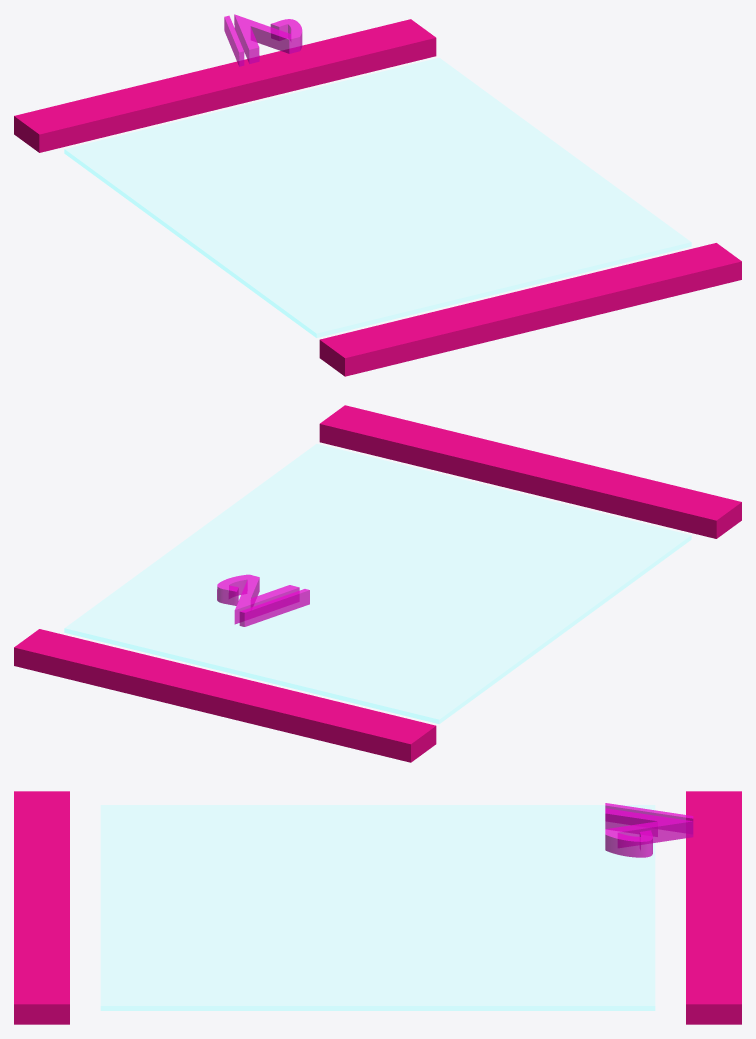
The model's file is ds_full_wo_anim6.gltf.
3 renders of one model, top to bottom at view 1: azimuth 30°, elevation 25°; view 2: azimuth 150°, elevation 25°; view 3: azimuth 270°, elevation 25°, orthographic. The views are drawn at different scales.
Parts seen in each view (by area): view 1: screen, up, down, lj; view 2: screen, down, up, lj; view 3: screen, up, down, lj.
Boxes of the visible parts, box(x1,y1,x2,y2) form: screen: box(64, 58, 691, 337); up: box(319, 243, 741, 376); down: box(14, 19, 436, 152); lj: box(224, 14, 302, 66); screen: box(64, 444, 691, 723); down: box(14, 629, 436, 762); up: box(319, 405, 741, 538); lj: box(217, 574, 309, 626); screen: box(101, 805, 654, 1010); up: box(14, 791, 69, 1024); down: box(686, 791, 741, 1024); lj: box(605, 803, 693, 857).
Bounding box in the file's own units: 2.41 × 0.5136 × 3.49.
